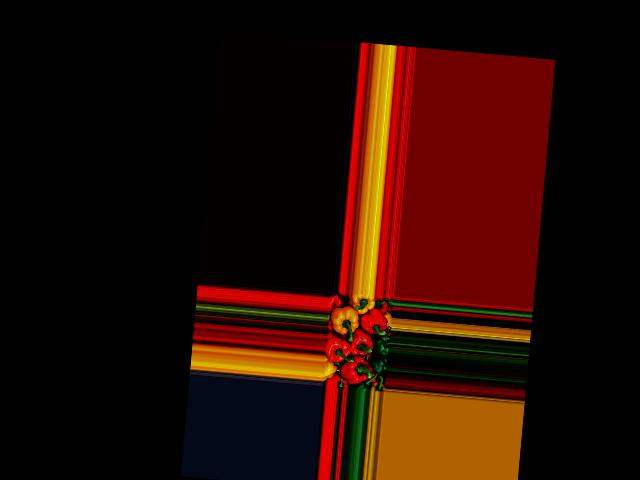bell_pepper: (322, 361, 336, 378)
